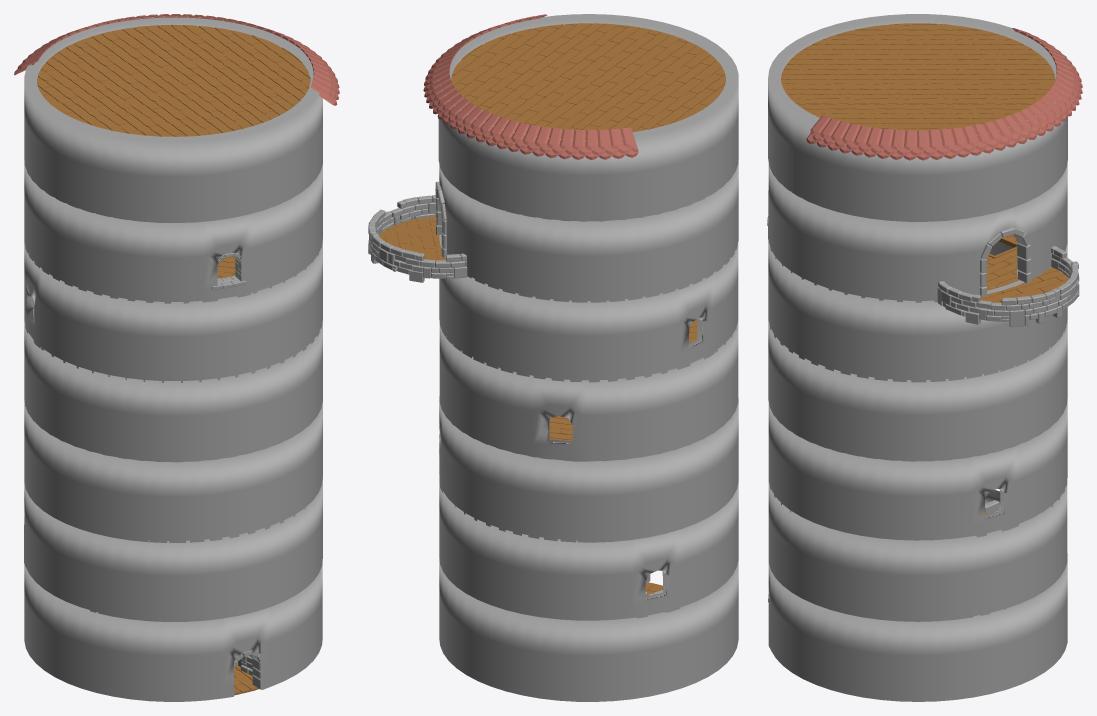
Rendered from torre4 (1).fbx.
3 renders of one model, left to right at view 1: azimuth 30°, elevation 25°; view 2: azimuth 150°, elevation 25°; view 3: azimuth 270°, elevation 25°, orthographic.
Parts seen in each view (by area): view 1: pCylinder13, pCylinder11, pCylinder20, pDisc22, pCylinder19, pCylinder18, pCylinder17, pCylinder12, pCube3467, polySurface77; view 2: pCylinder13, pCylinder12, pCylinder20, pCylinder17, pCylinder11, pCylinder18, pCylinder19, pDisc22, pCube3467, pCube3468, polySurface66; view 3: pCylinder19, pCylinder12, pCylinder11, pCylinder20, pCylinder13, pDisc22, pCylinder17, pCylinder18, pCube3467, pCube3468, polySurface66.
Boxes of the visible parts, x1,y1,x2,y2 form: pCylinder13: [24, 16, 322, 222]; pCylinder11: [24, 320, 322, 462]; pCylinder20: [24, 399, 322, 542]; pDisc22: [37, 24, 310, 136]; pCylinder19: [24, 477, 322, 621]; pCylinder18: [24, 239, 322, 382]; pCylinder17: [24, 160, 322, 303]; pCylinder12: [24, 562, 322, 701]; pCube3467: [14, 14, 339, 105]; polySurface77: [212, 252, 246, 289]; pCylinder13: [438, 14, 738, 221]; pCylinder12: [439, 559, 738, 701]; pCylinder20: [439, 396, 738, 542]; pCylinder17: [439, 159, 738, 302]; pCylinder11: [439, 321, 738, 461]; pCylinder18: [439, 234, 738, 382]; pCylinder19: [439, 475, 738, 620]; pDisc22: [451, 23, 725, 131]; pCube3467: [423, 14, 638, 159]; pCube3468: [368, 195, 467, 282]; polySurface66: [435, 181, 446, 257]; pCylinder19: [768, 482, 1067, 621]; pCylinder12: [768, 553, 1067, 701]; pCylinder11: [768, 320, 1067, 461]; pCylinder20: [768, 399, 1067, 540]; pCylinder13: [768, 14, 1067, 221]; pDisc22: [781, 23, 1055, 130]; pCylinder17: [768, 162, 1067, 302]; pCylinder18: [768, 240, 1067, 382]; pCube3467: [806, 28, 1082, 160]; pCube3468: [937, 234, 1079, 326]; polySurface66: [980, 227, 1031, 296].
Bounding box in the file's own units: 21.67 × 39.73 × 19.98.
